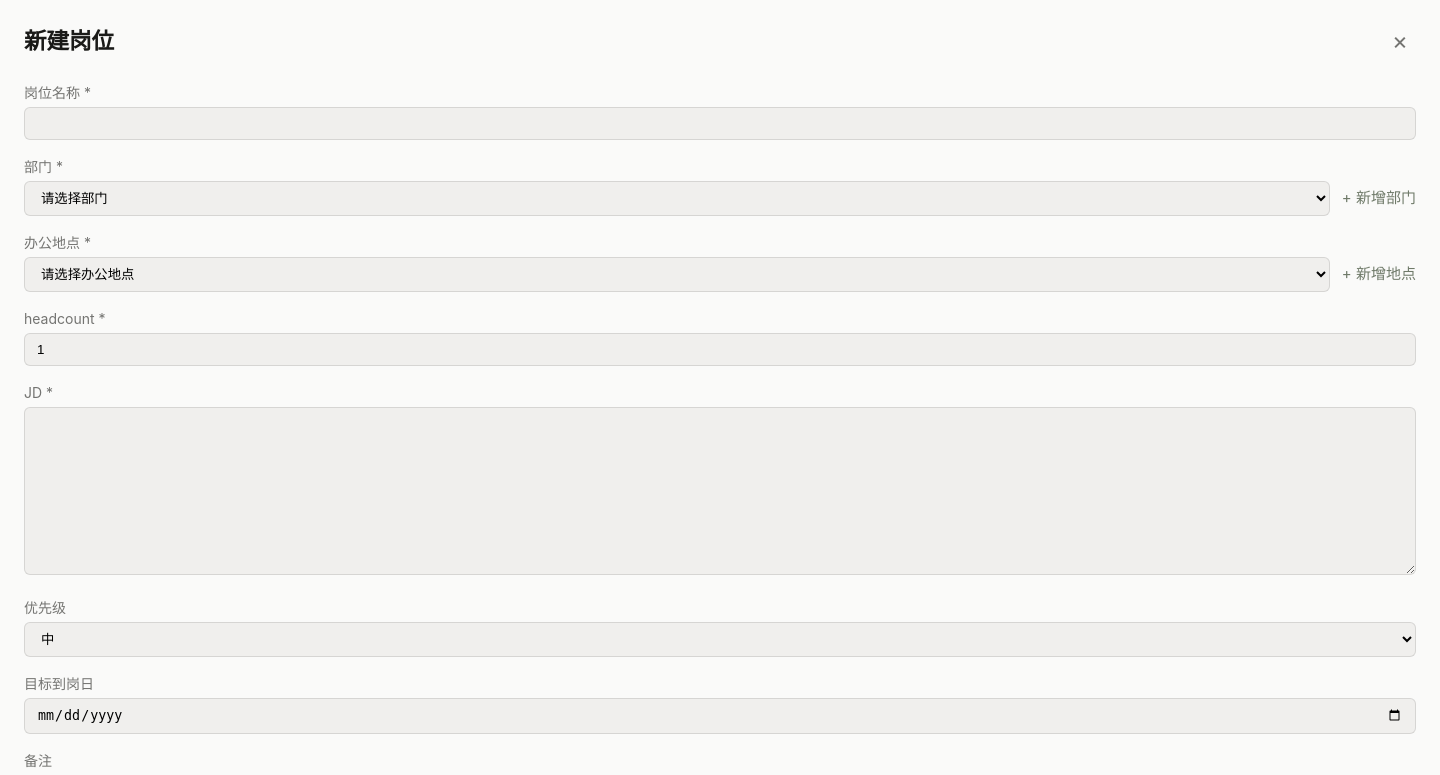
JobCreateForm › 支持内联新增部门并自动选中
Step 1. Click the button "+ 新增部门" → click(1379, 198), box top-left (1342, 187), bottom-right (1416, 210)
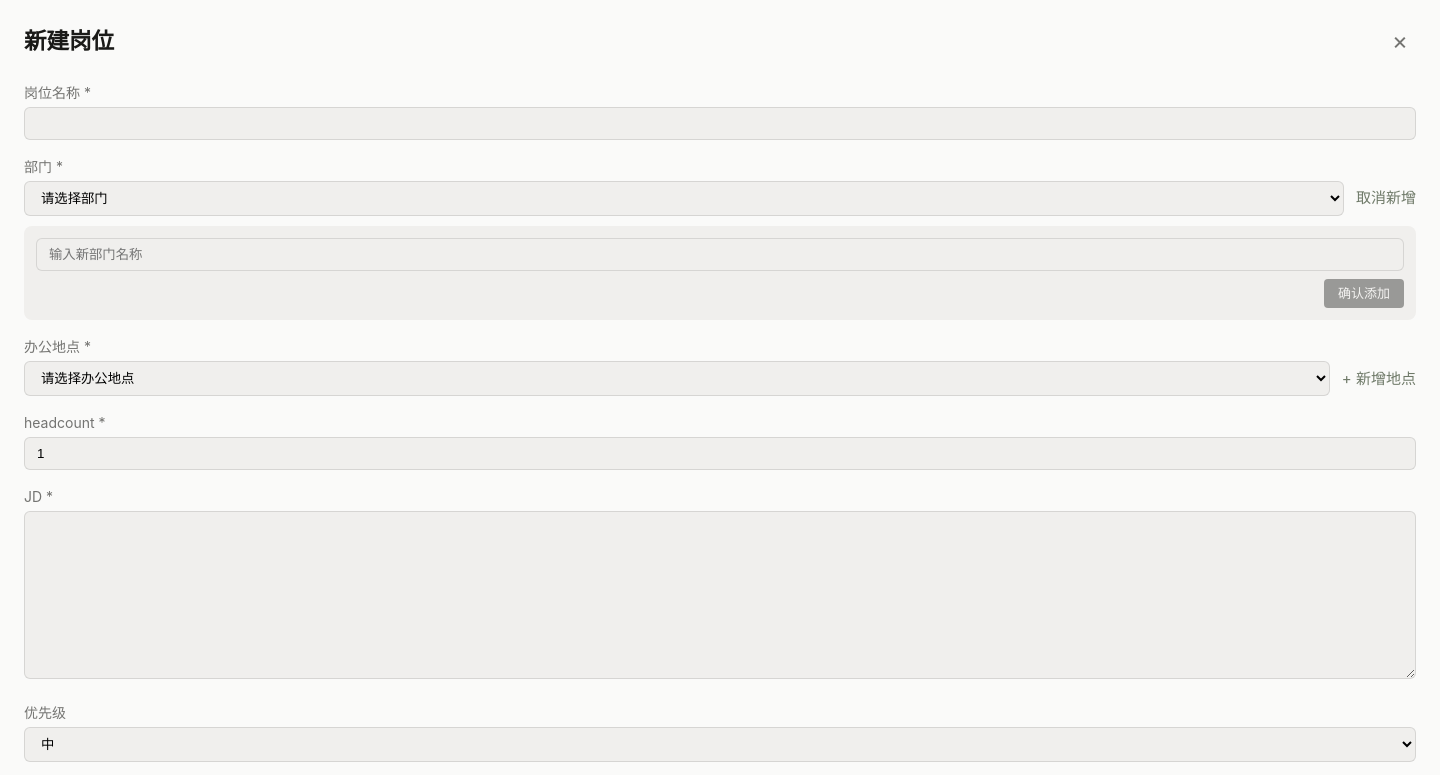
Step 2. Type "产品部" into the field with placeholder "输入新部门名称" → (720, 254), box top-left (36, 238), bottom-right (1404, 271)
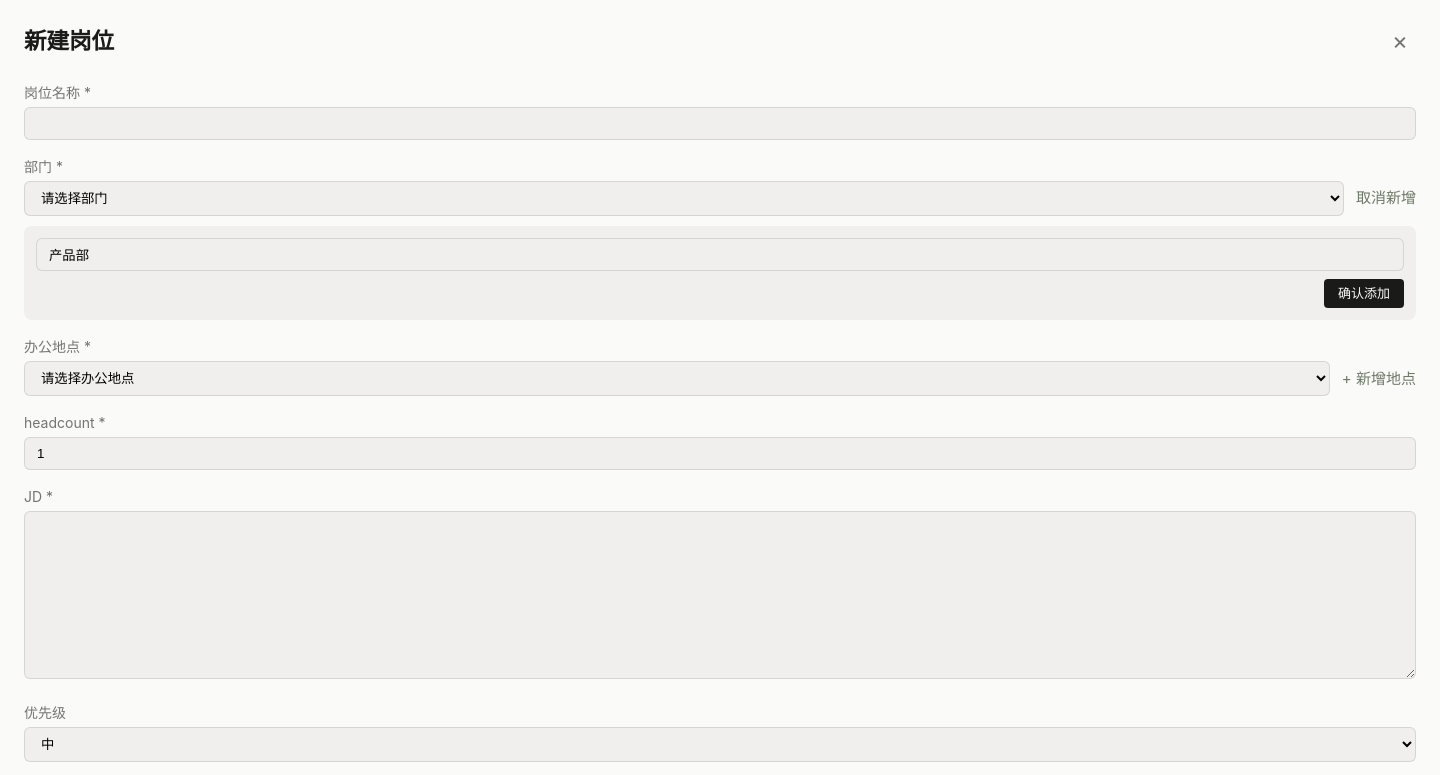
Step 3. Click the button with class "btn--primary" → click(1364, 294), box top-left (1324, 279), bottom-right (1404, 308)
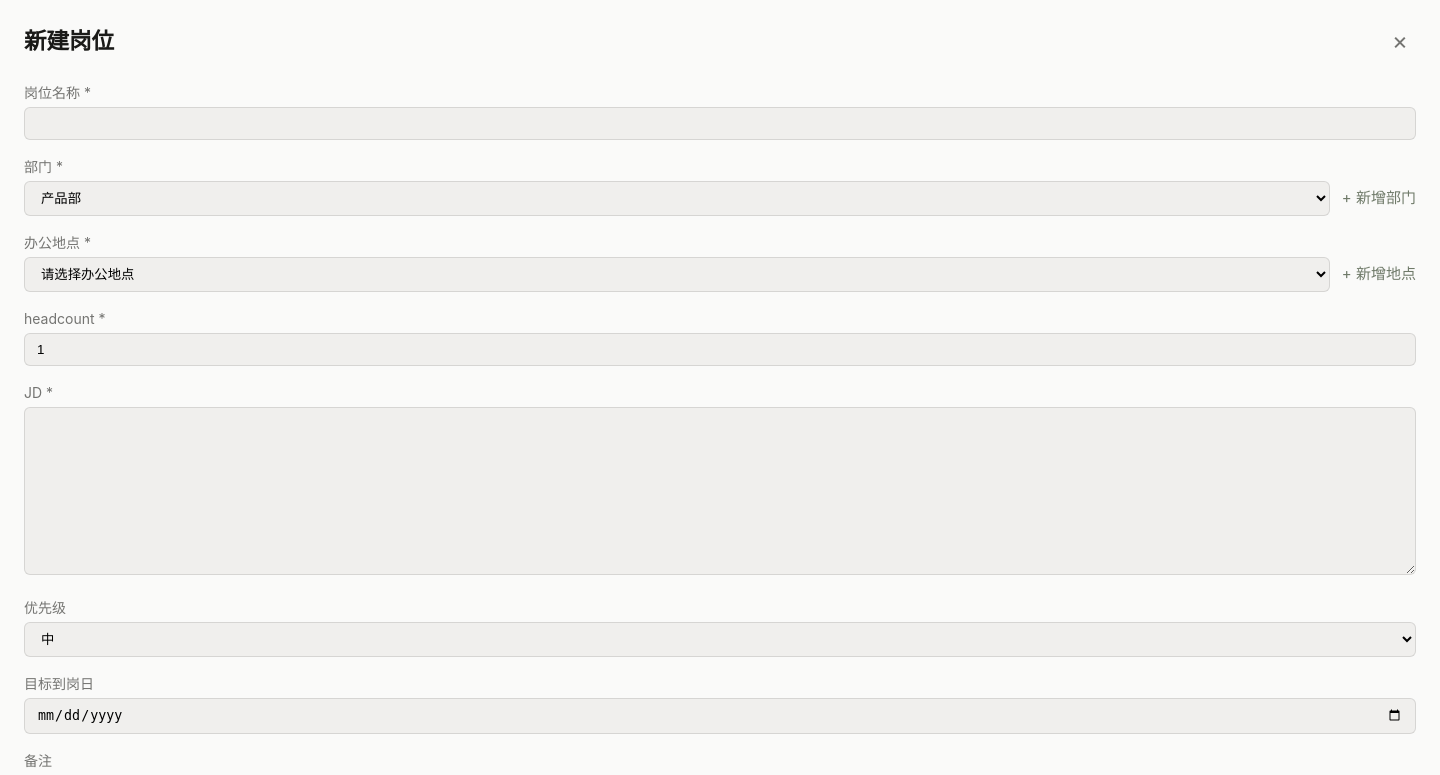
Result: the dropdown below "部门 *" shows "产品部" at top-left (24, 181), bottom-right (1330, 216)
